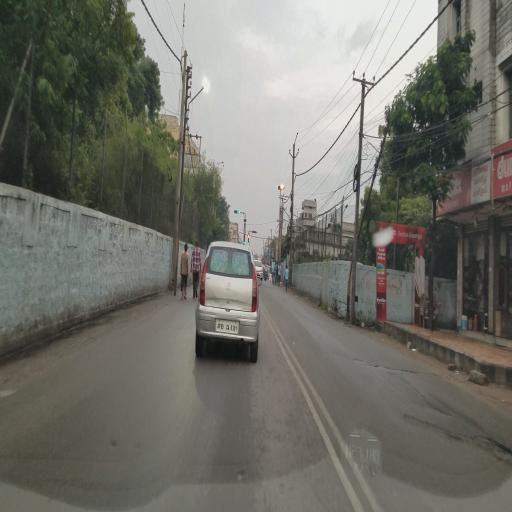street_light_0: (193, 74, 216, 102)
